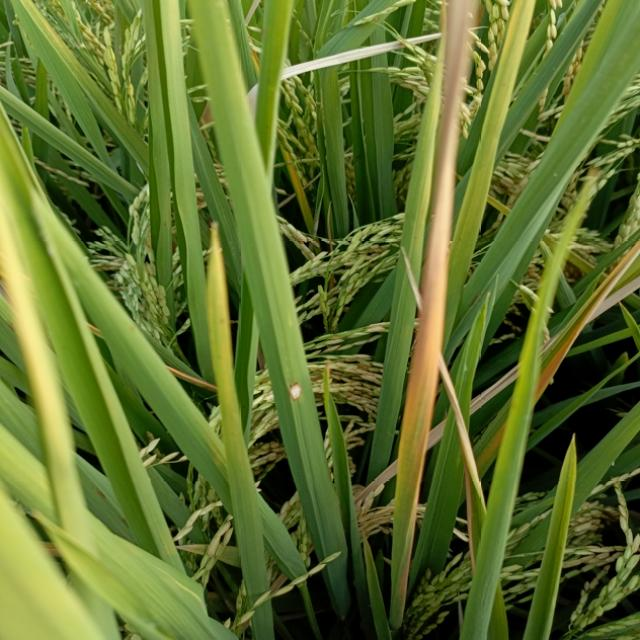Brown spot: (372, 1, 482, 530), (438, 358, 493, 568)
